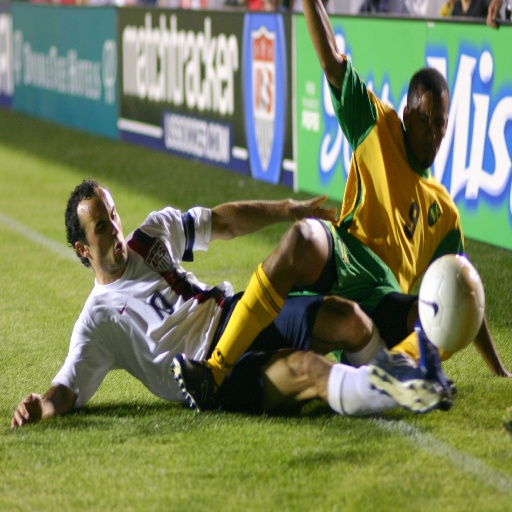hand: (288, 191, 338, 222), (11, 392, 43, 426)
